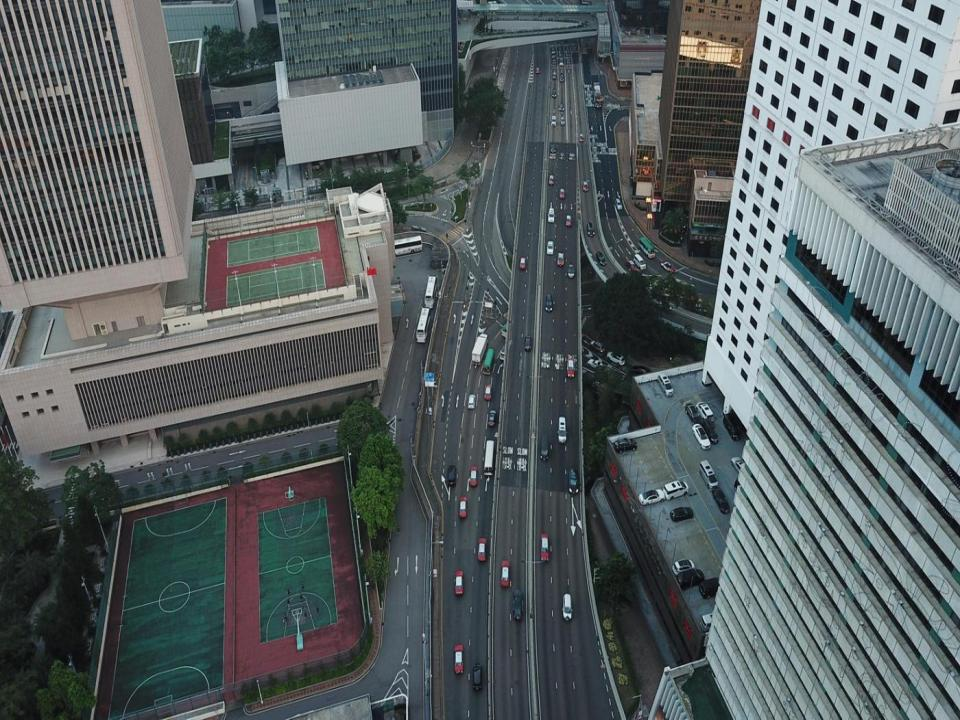bus: (385, 236, 422, 256), (416, 307, 430, 343), (424, 276, 438, 309), (500, 314, 518, 338), (638, 236, 655, 258), (484, 440, 494, 475), (482, 348, 494, 375), (499, 337, 511, 361)
car: (712, 486, 730, 514), (693, 424, 711, 450), (638, 489, 665, 506), (702, 417, 719, 443), (672, 557, 693, 576), (685, 403, 701, 427), (614, 438, 637, 454), (670, 507, 693, 522), (453, 644, 464, 674), (730, 456, 747, 474), (472, 662, 482, 692), (500, 559, 510, 588), (631, 364, 653, 377), (562, 593, 572, 621), (514, 588, 523, 618), (607, 351, 625, 366), (476, 536, 487, 560), (734, 479, 749, 496), (569, 468, 579, 493), (540, 534, 549, 561), (454, 570, 463, 594), (590, 339, 605, 353), (658, 300, 673, 314), (558, 417, 566, 442), (661, 260, 675, 273), (447, 465, 456, 485), (459, 496, 467, 518), (595, 250, 606, 265), (588, 358, 602, 369), (566, 358, 574, 377), (306, 162, 320, 172), (470, 466, 477, 486), (545, 293, 552, 312), (488, 410, 496, 426), (524, 335, 532, 350), (484, 384, 492, 399), (467, 395, 476, 408), (546, 241, 554, 255), (556, 252, 564, 266), (520, 256, 526, 270), (565, 214, 571, 228), (568, 264, 574, 277), (558, 187, 564, 199), (576, 331, 585, 339), (576, 344, 584, 352), (582, 182, 588, 192), (578, 133, 584, 142), (559, 56, 564, 66), (550, 144, 555, 154), (548, 176, 554, 184), (559, 103, 564, 111), (551, 49, 555, 57), (552, 88, 556, 96), (561, 117, 565, 124), (553, 71, 556, 79), (536, 67, 539, 74), (560, 74, 563, 80)
truck: (471, 332, 488, 364), (594, 82, 601, 108)
van: (676, 568, 705, 592), (699, 459, 717, 490), (663, 480, 689, 500), (698, 578, 723, 598), (700, 612, 725, 631), (723, 413, 740, 439), (696, 401, 714, 423), (658, 374, 674, 396), (541, 433, 549, 461), (633, 254, 646, 271), (586, 223, 594, 236), (548, 208, 555, 222), (614, 198, 622, 210), (551, 114, 557, 126)
